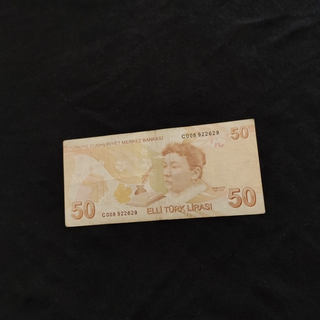50TLBack: (62, 118, 265, 227)
